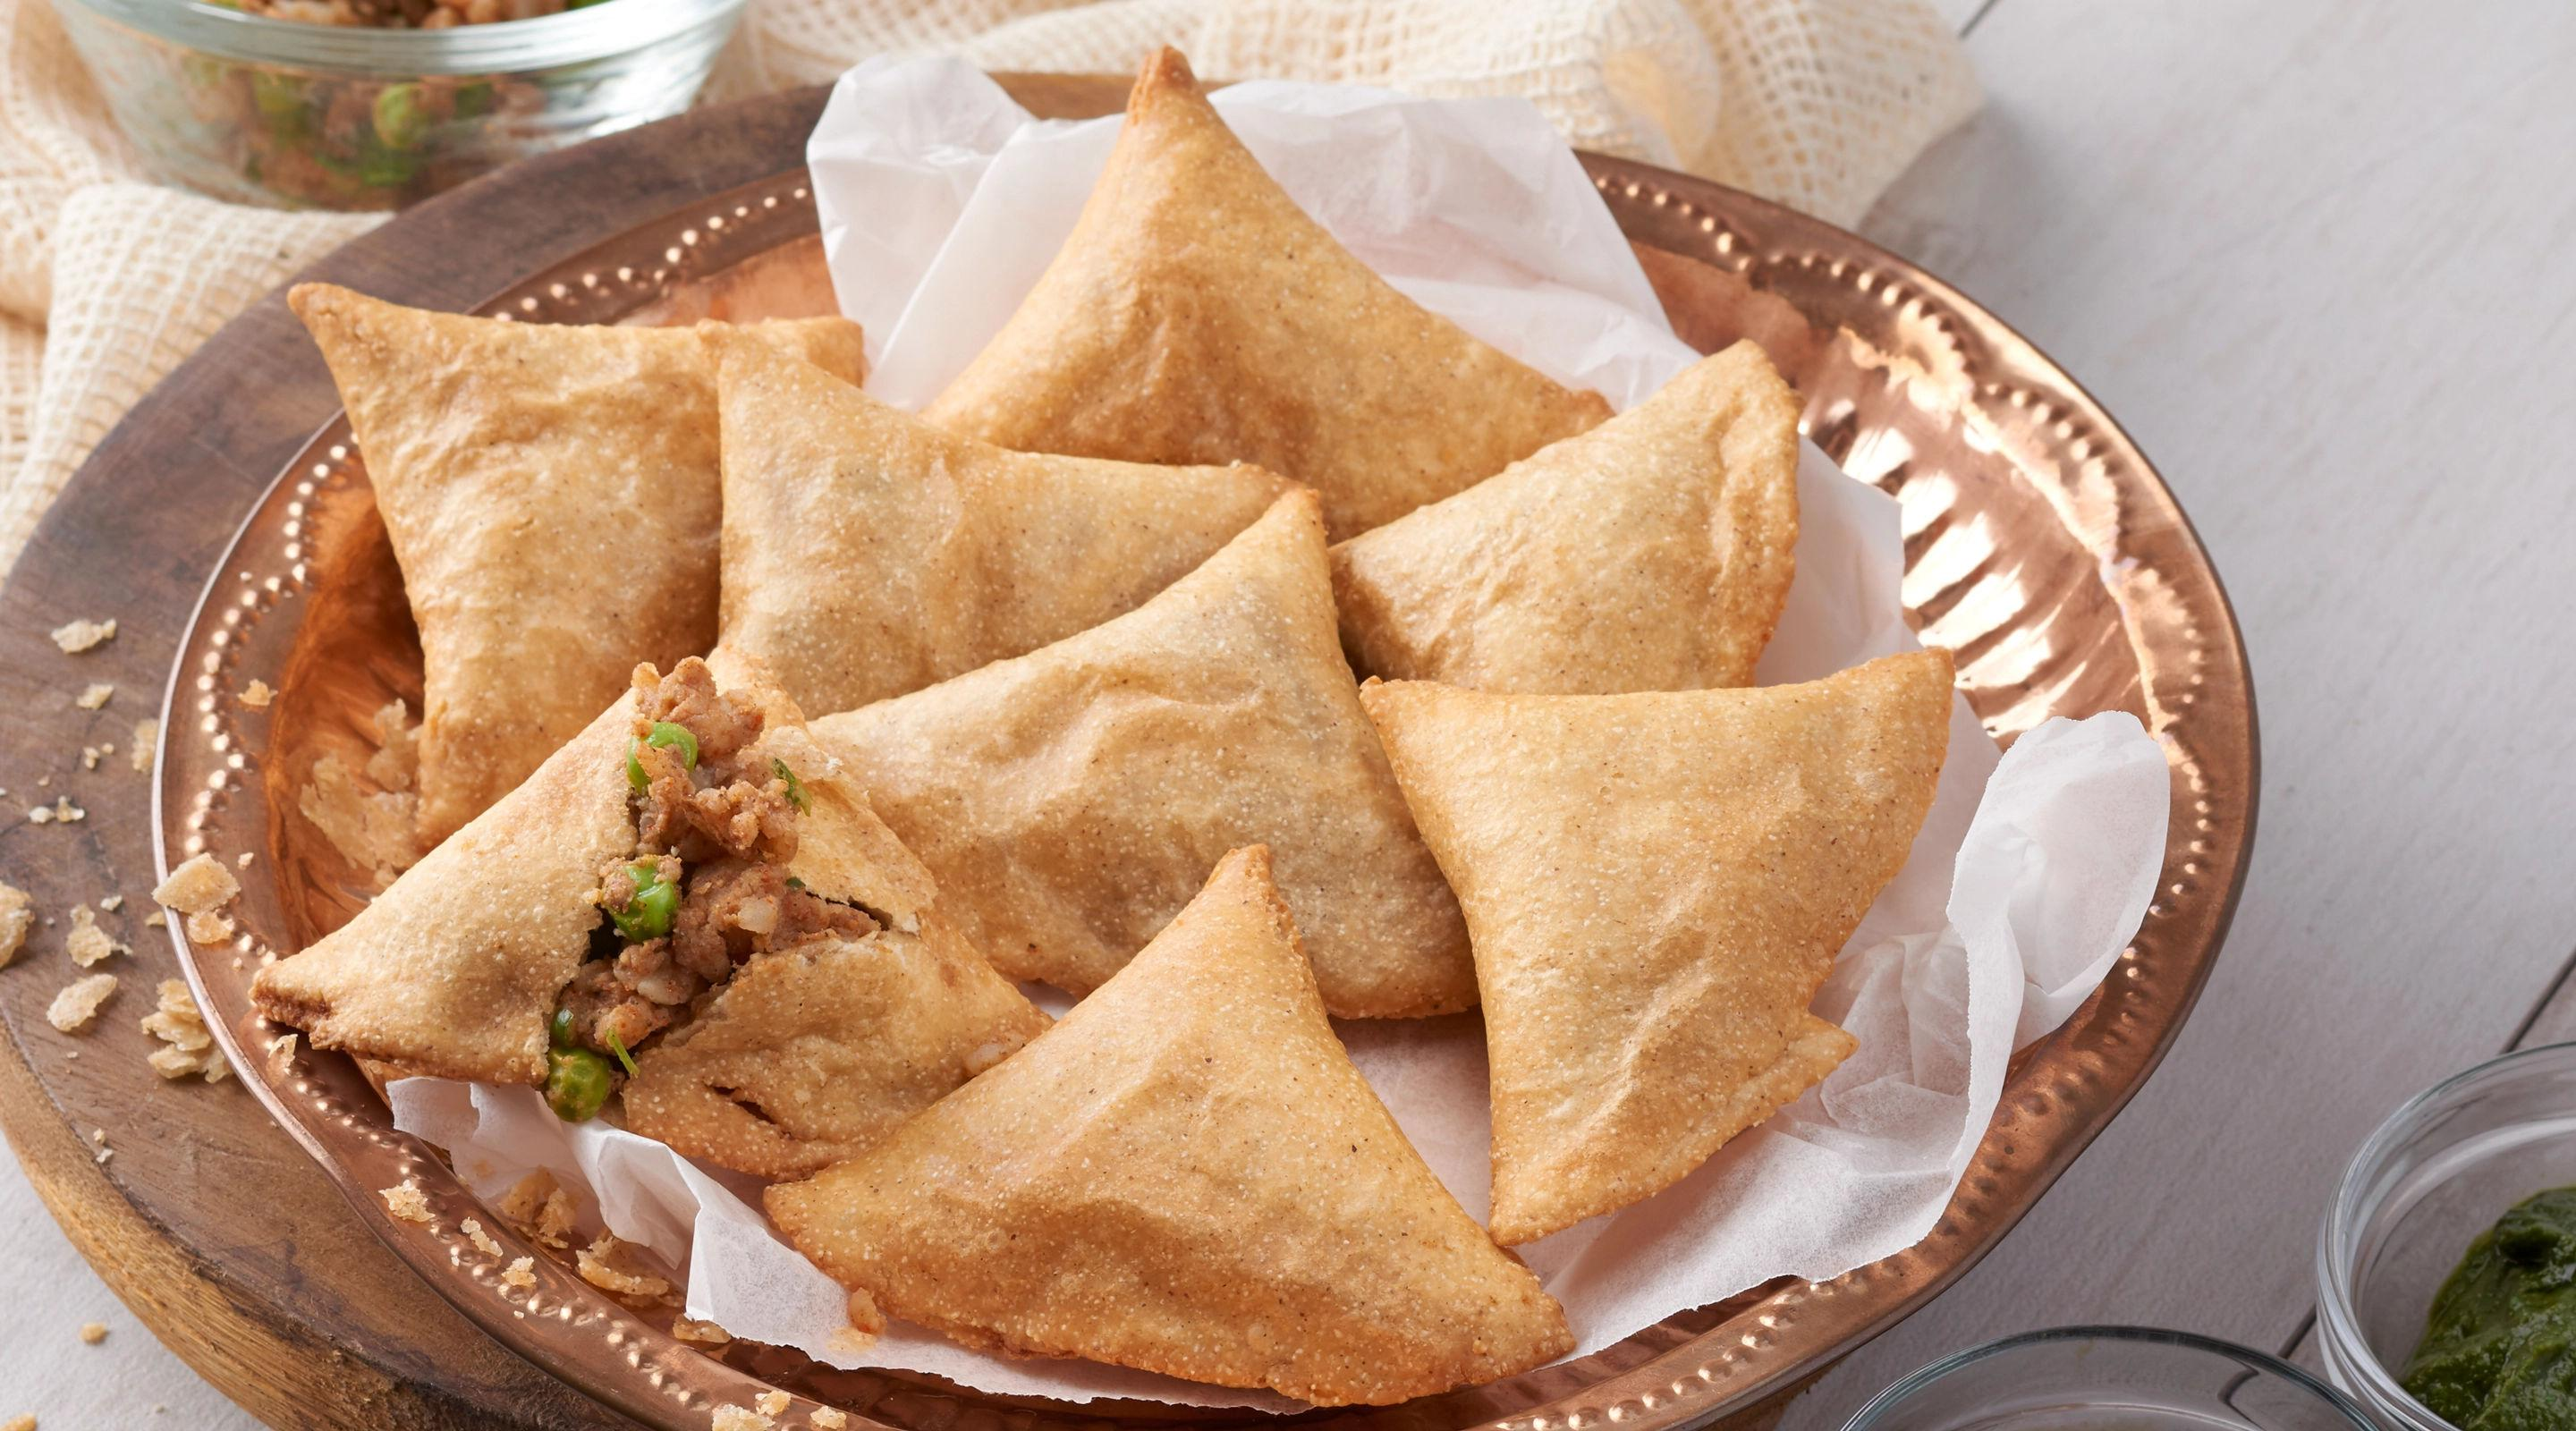samosa: (765, 342, 1952, 1403), (252, 649, 1047, 1183), (811, 488, 1480, 1017), (1364, 649, 1952, 1248), (925, 46, 1610, 538), (287, 282, 724, 846), (287, 282, 724, 846), (700, 323, 1288, 719), (1660, 594, 1665, 608), (881, 493, 890, 499)
